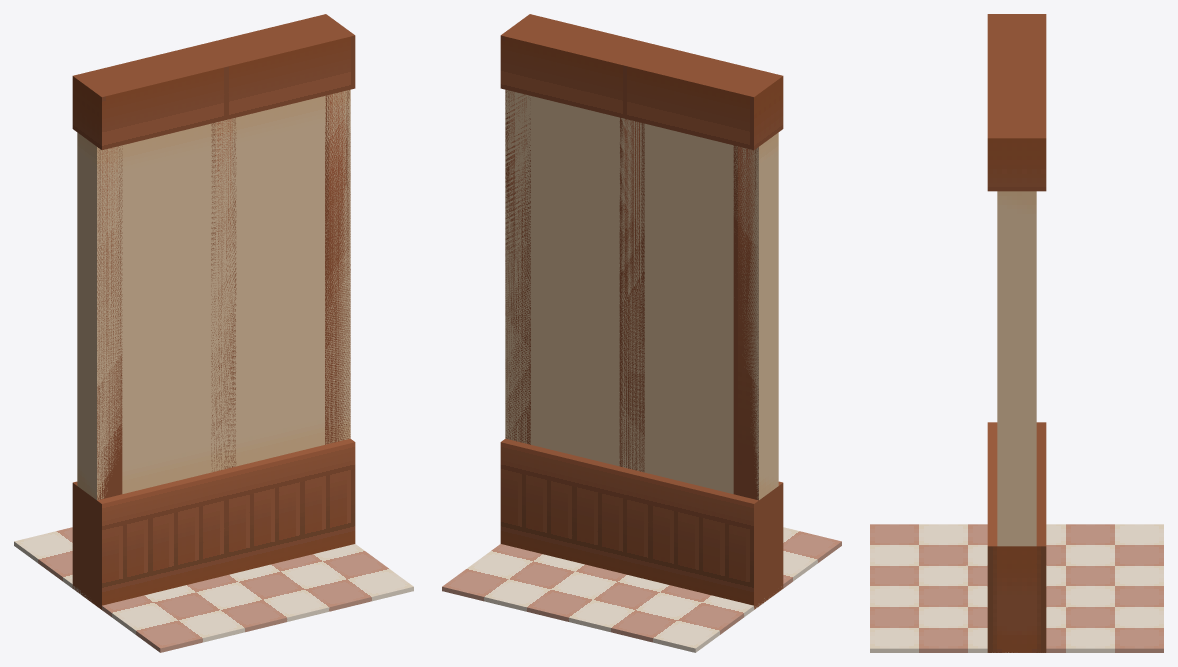
File: KitchenFloorTile.gltf
The picture shows the model from 3 angles, left to right: view 1: azimuth 30°, elevation 25°; view 2: azimuth 150°, elevation 25°; view 3: azimuth 270°, elevation 25°; orthographic projection.
Visible parts, largest first — view 1: cube (×7); view 2: cube (×7); view 3: cube (×4).
Boxes of the visible parts, bbox=[...] form: cube (×7): bbox=[14, 14, 413, 652]; cube (×7): bbox=[442, 14, 841, 652]; cube (×4): bbox=[870, 14, 1163, 652].
Bounding box in the file's own units: 3.75 × 7.25 × 3.75.
Materials: 9 (9 with a texture image).
